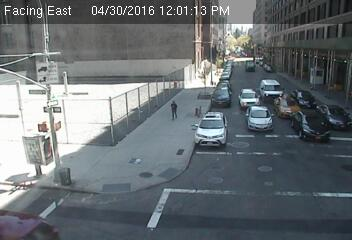neg: (264, 63, 293, 102), (287, 127, 312, 160), (54, 166, 77, 195), (277, 181, 299, 210), (190, 109, 210, 136), (31, 129, 51, 156), (106, 75, 126, 102), (242, 120, 262, 146), (127, 159, 146, 185), (157, 159, 176, 184), (165, 33, 183, 58), (227, 43, 245, 68), (71, 95, 87, 115)
pos: (165, 96, 183, 120)
